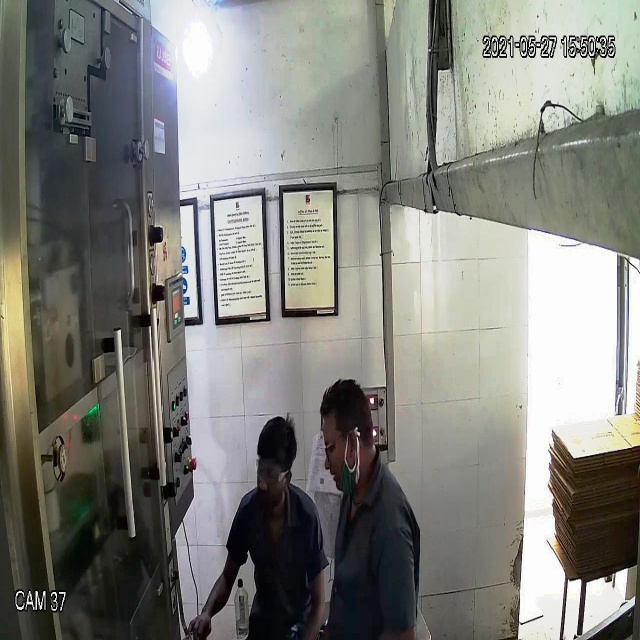Gafas: (254, 453, 292, 487)
